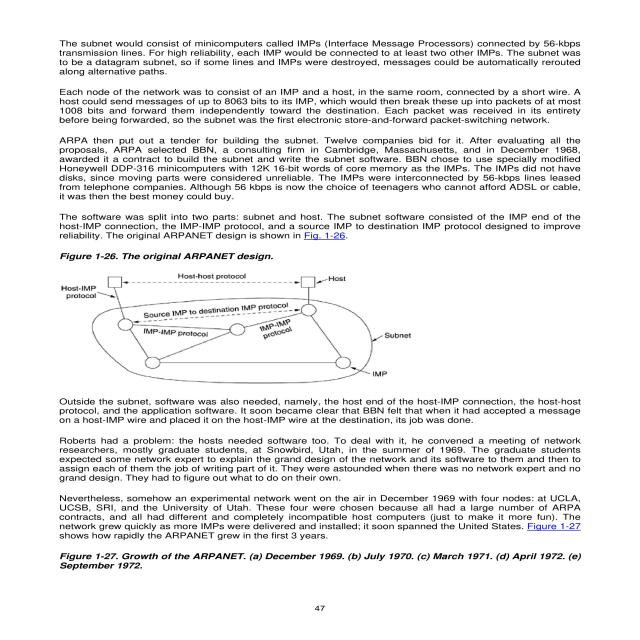diagram: (51, 249, 438, 391)
